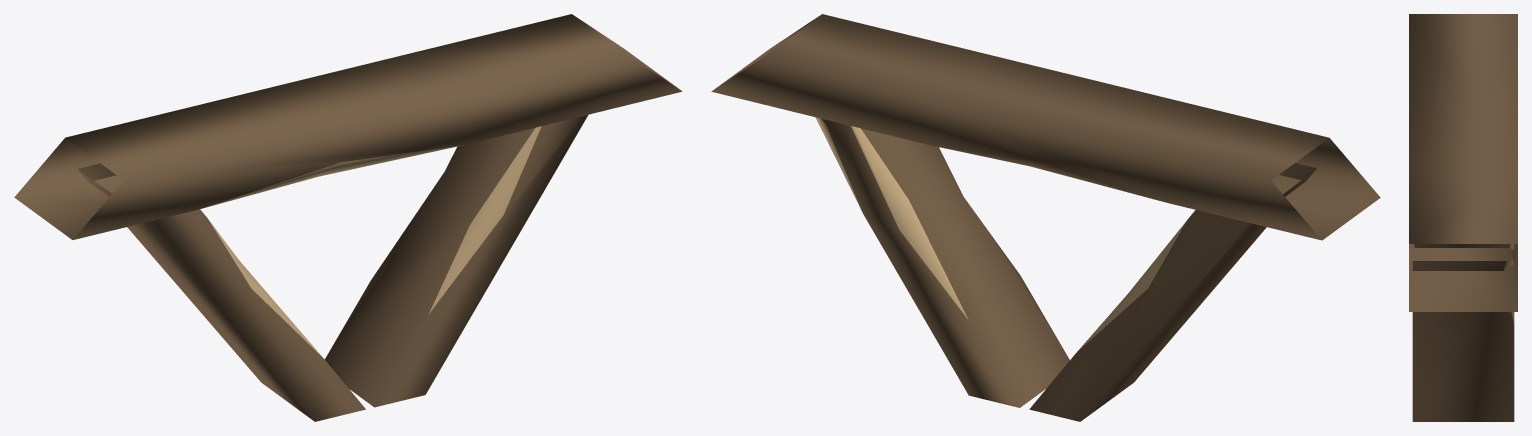
File: rpgpp_ag_roof_end_01_6x3_wall_beam_d.fbx
3 views of the same model, side by side, from view 1: azimuth 30°, elevation 25°; view 2: azimuth 150°, elevation 25°; view 3: azimuth 270°, elevation 25° (orthographic). The views are drawn at different scales.
Visible parts, largest first — view 1: rpgpp_ag_roof_end_01_6x3_wall_beam_d; view 2: rpgpp_ag_roof_end_01_6x3_wall_beam_d; view 3: rpgpp_ag_roof_end_01_6x3_wall_beam_d.
Boxes of the visible parts, box(x1,y1,x2,y2) form: rpgpp_ag_roof_end_01_6x3_wall_beam_d: box(14, 14, 682, 421); rpgpp_ag_roof_end_01_6x3_wall_beam_d: box(711, 14, 1380, 421); rpgpp_ag_roof_end_01_6x3_wall_beam_d: box(1409, 14, 1517, 421).
Size of the model in its own units: 3.39 by 1.54 by 0.5617.
